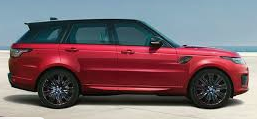car: (7, 17, 251, 111)
